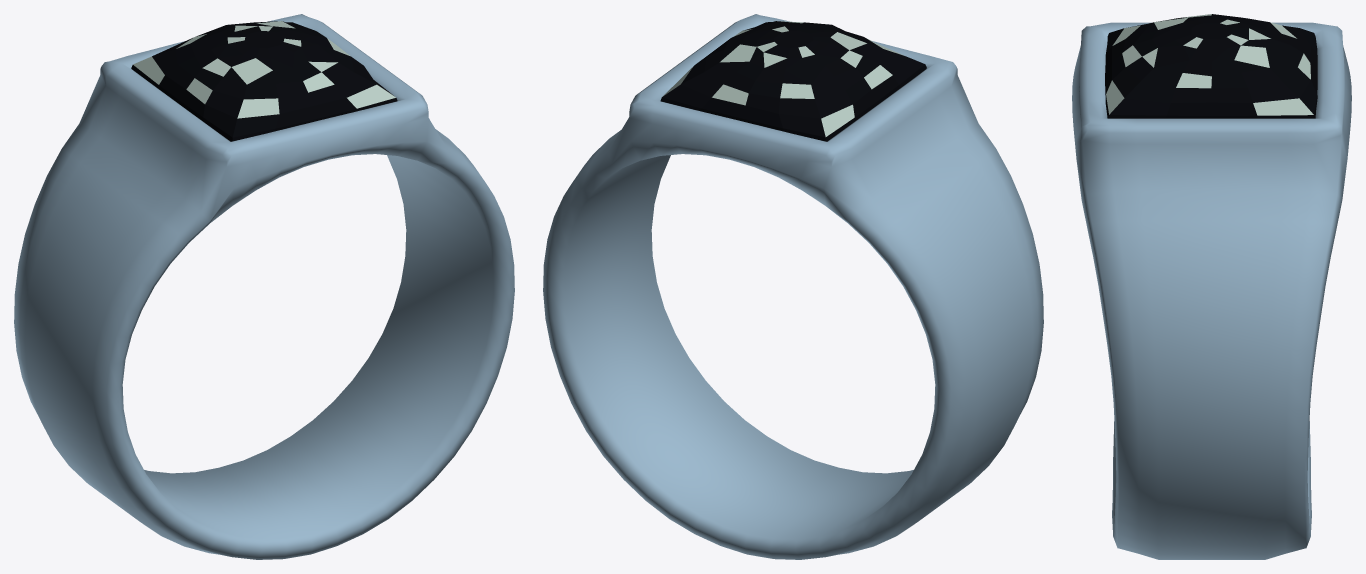
The model's file is FBX_Ring.fbx.
The picture shows the model from 3 angles, left to right: view 1: azimuth 30°, elevation 25°; view 2: azimuth 150°, elevation 25°; view 3: azimuth 270°, elevation 25°; orthographic projection. The views are drawn at different scales.
Parts seen in each view (by area): view 1: Ring01; view 2: Ring01; view 3: Ring01.
Boxes of the visible parts, <box> form: Ring01: <box>14,14,514,559</box>; Ring01: <box>543,14,1043,559</box>; Ring01: <box>1072,14,1351,559</box>.
Bounding box in the file's own units: 1.19 × 0.6564 × 1.31.
